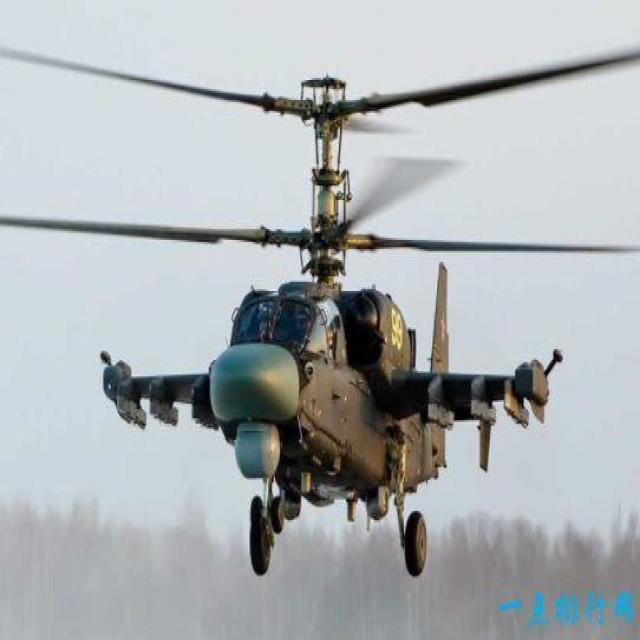MIL_HELO: (1, 35, 640, 578)
